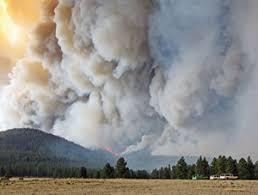yanwu: (2, 1, 258, 153)
